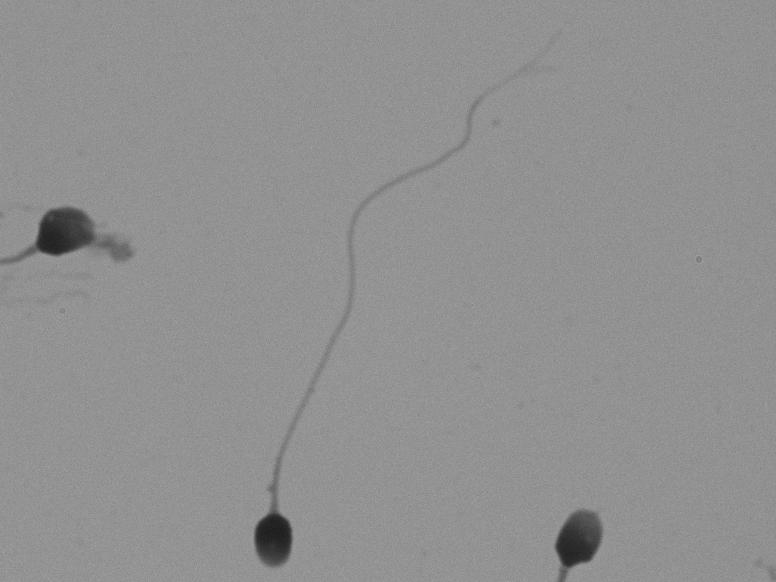Abnormal: (15, 132, 145, 331), (507, 461, 626, 575)
Normal: (215, 12, 539, 571)
